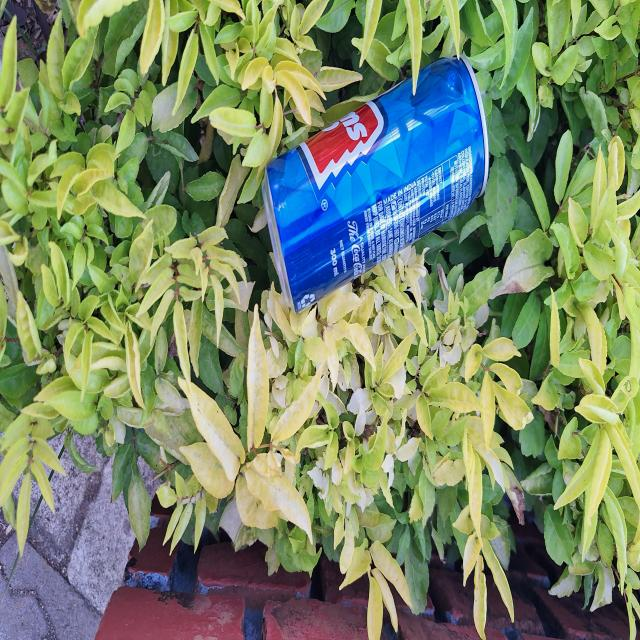Thums Up: (255, 40, 495, 317)
